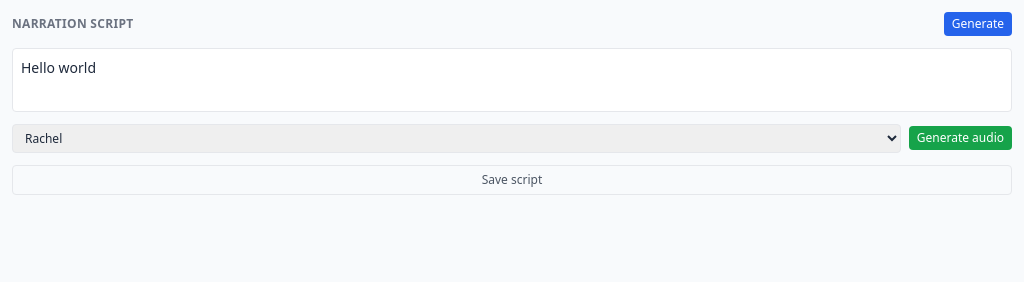
Scenario: NarrationTab › TTS-01: narration-audio-player appears after clicking generate-audio-btn
The width and height of the screenshot is (1024, 282).
What coordinates should you click on to do the following:
click the button with test id "generate-audio-btn"
I would click on:
 (960, 138)
Its box is [909,126,1012,150].
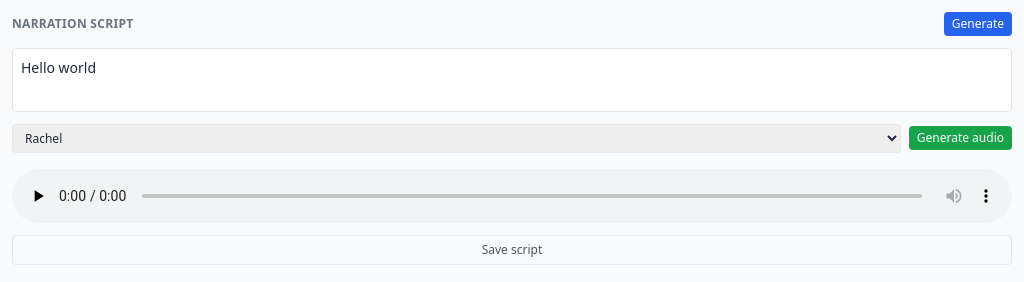
Now the element with test id "narration-audio-player" is shown, box [12,168,1012,222]
